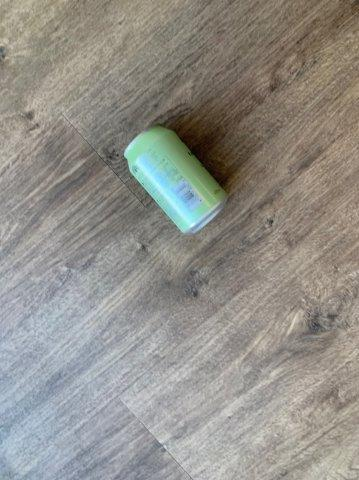kaleng: (126, 126, 228, 232)
